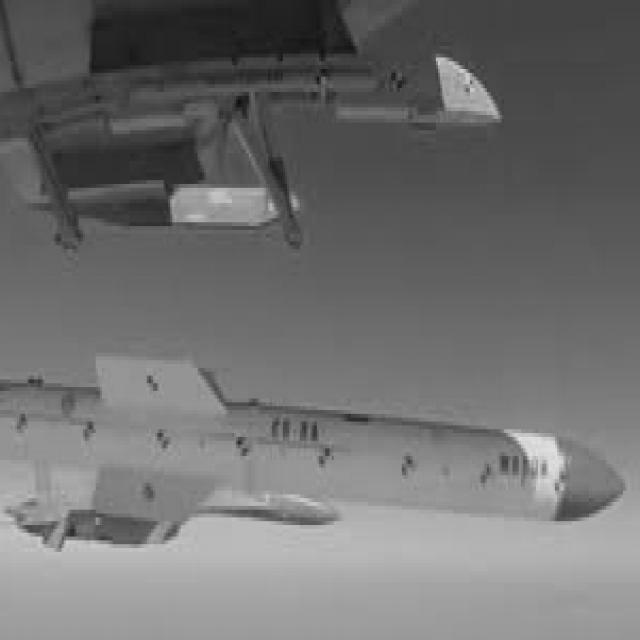missile: (0, 382, 640, 528)
